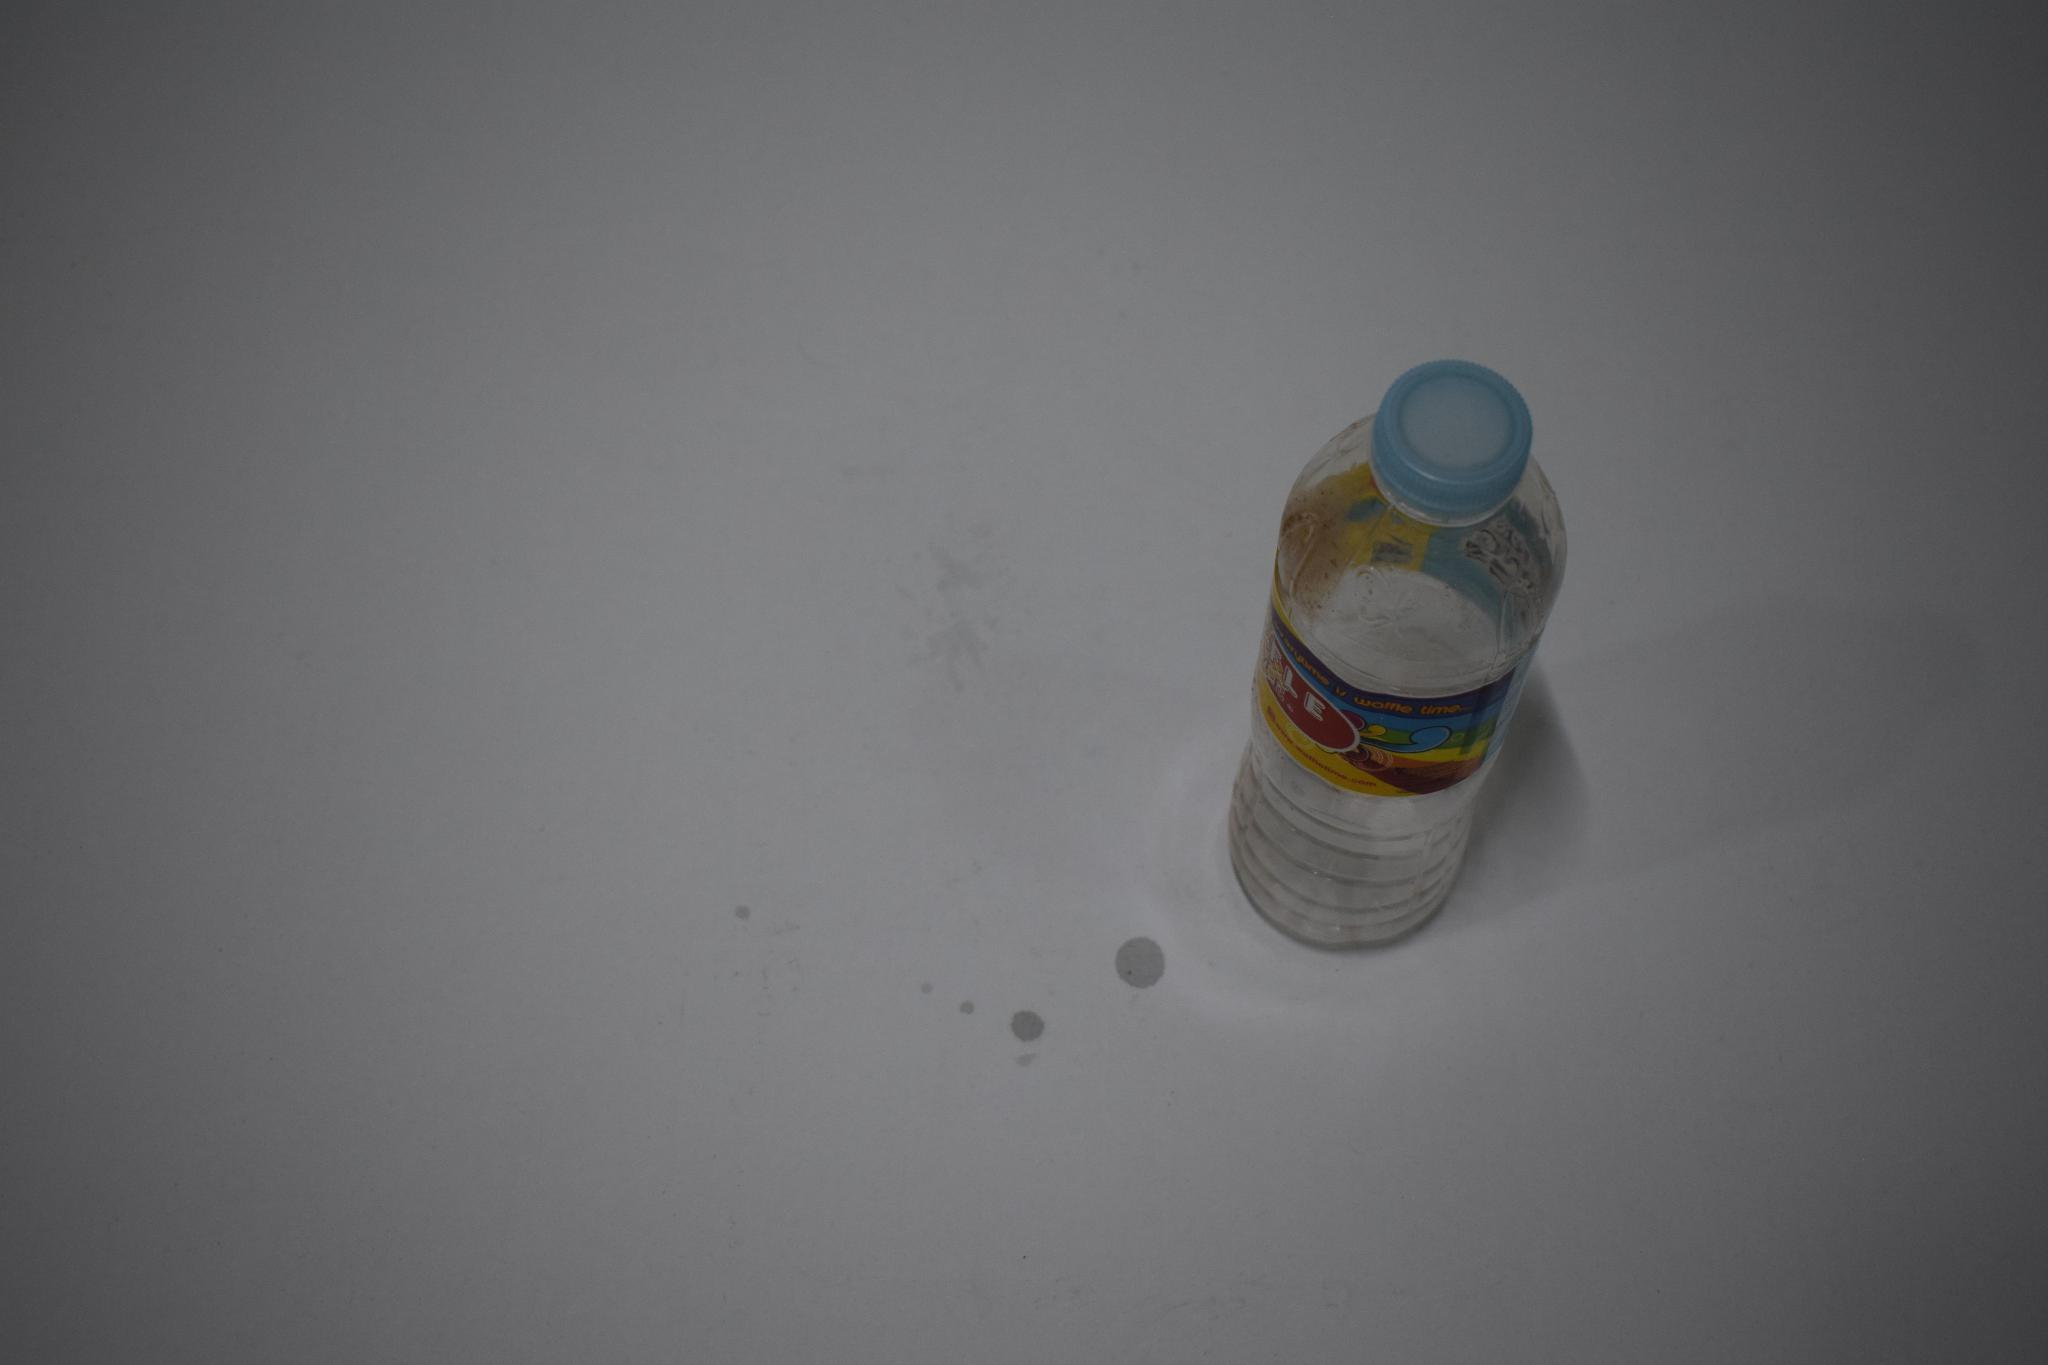bottle: (1222, 353, 1572, 955)
